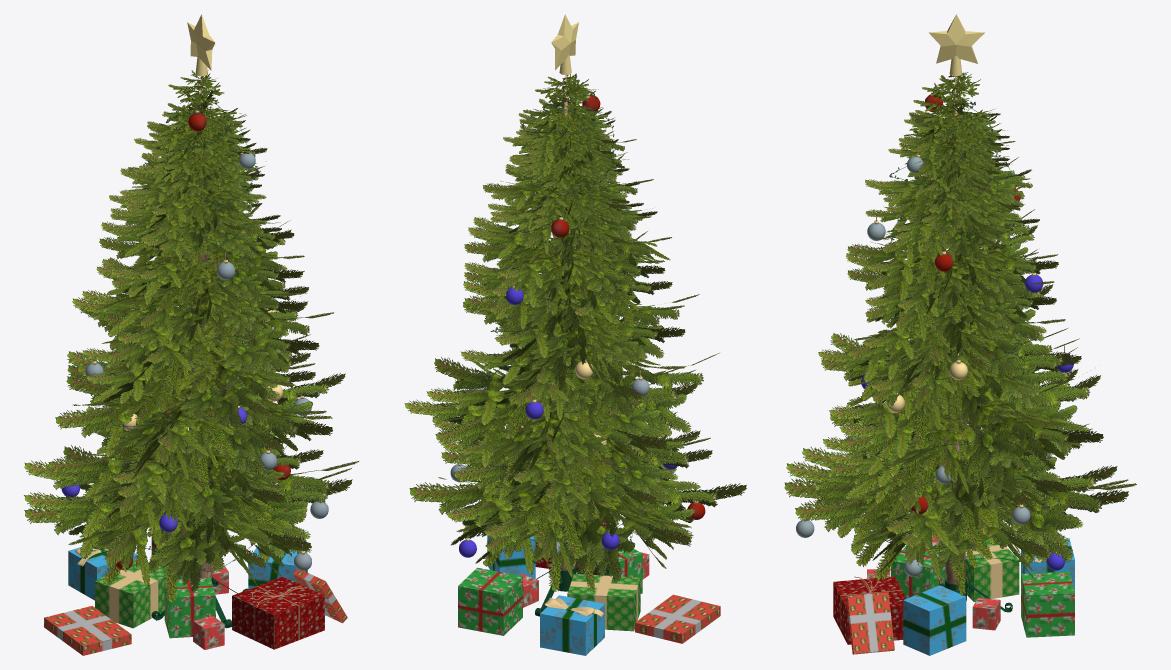
File: ChristmassTree.fbx.glb
3 renders of one model, left to right at view 1: azimuth 30°, elevation 25°; view 2: azimuth 150°, elevation 25°; view 3: azimuth 270°, elevation 25°, orthographic. The views are drawn at different scales.
Visible parts, largest first — view 1: Tree.653, gift_007.35, gift.28, gift_008.36, gift_006.34, gift_009.37, gift_002.30, Star.652, gift_004.32, gift_005.33; view 2: Tree.653, gift_001.29, gift_009.37, gift.28, gift_008.36, Star.652, gift_002.30, gift_006.34; view 3: Tree.653, gift_002.30, gift_001.29, gift_004.32, gift.28, gift_007.35, Star.652, gift_006.34, gift_003.31, gift_009.37.
Part boxes in pixels (x1=…): Tree.653: x1=24, y1=70, x2=358, y2=602; gift_007.35: x1=232, y1=576, x2=324, y2=649; gift.28: x1=95, y1=559, x2=166, y2=628; gift_008.36: x1=44, y1=606, x2=131, y2=655; gift_006.34: x1=164, y1=577, x2=215, y2=638; gift_009.37: x1=68, y1=546, x2=137, y2=600; gift_002.30: x1=248, y1=545, x2=307, y2=589; Star.652: x1=187, y1=14, x2=215, y2=76; gift_004.32: x1=293, y1=569, x2=347, y2=623; gift_005.33: x1=193, y1=616, x2=224, y2=649; Tree.653: x1=404, y1=72, x2=746, y2=591; gift_001.29: x1=458, y1=567, x2=522, y2=635; gift_009.37: x1=540, y1=595, x2=604, y2=655; gift.28: x1=567, y1=573, x2=640, y2=631; gift_008.36: x1=635, y1=594, x2=720, y2=643; Star.652: x1=551, y1=14, x2=578, y2=74; gift_002.30: x1=487, y1=535, x2=535, y2=578; gift_006.34: x1=581, y1=546, x2=642, y2=593; Tree.653: x1=784, y1=72, x2=1136, y2=595; gift_002.30: x1=903, y1=585, x2=966, y2=655; gift_001.29: x1=1021, y1=571, x2=1074, y2=637; gift_004.32: x1=846, y1=592, x2=894, y2=654; gift.28: x1=965, y1=537, x2=1019, y2=601; gift_007.35: x1=833, y1=575, x2=906, y2=644; Star.652: x1=929, y1=14, x2=984, y2=76; gift_006.34: x1=891, y1=545, x2=945, y2=598; gift_003.31: x1=972, y1=597, x2=1000, y2=630; gift_009.37: x1=1021, y1=538, x2=1074, y2=591.
Size of the model in its own units: 128 by 223 by 128.
Materials: 44 (44 with a texture image).
